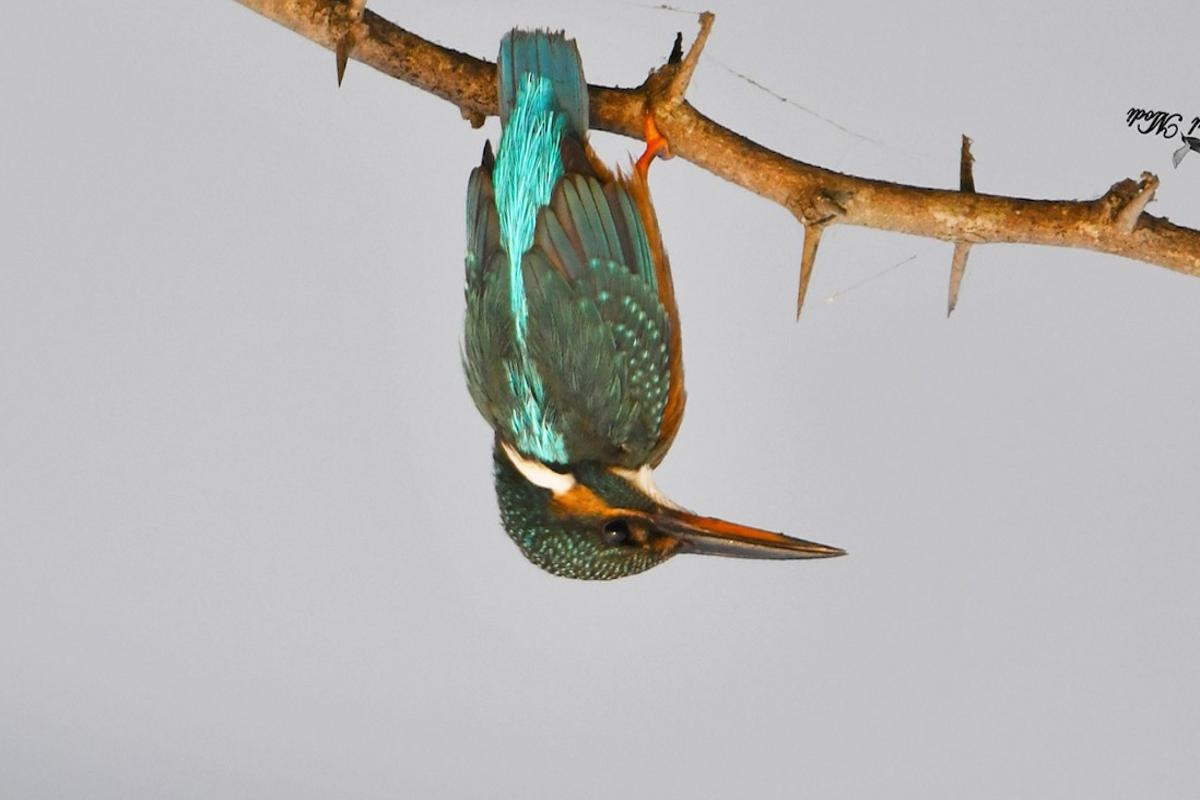kingfisher: (429, 66, 852, 598)
